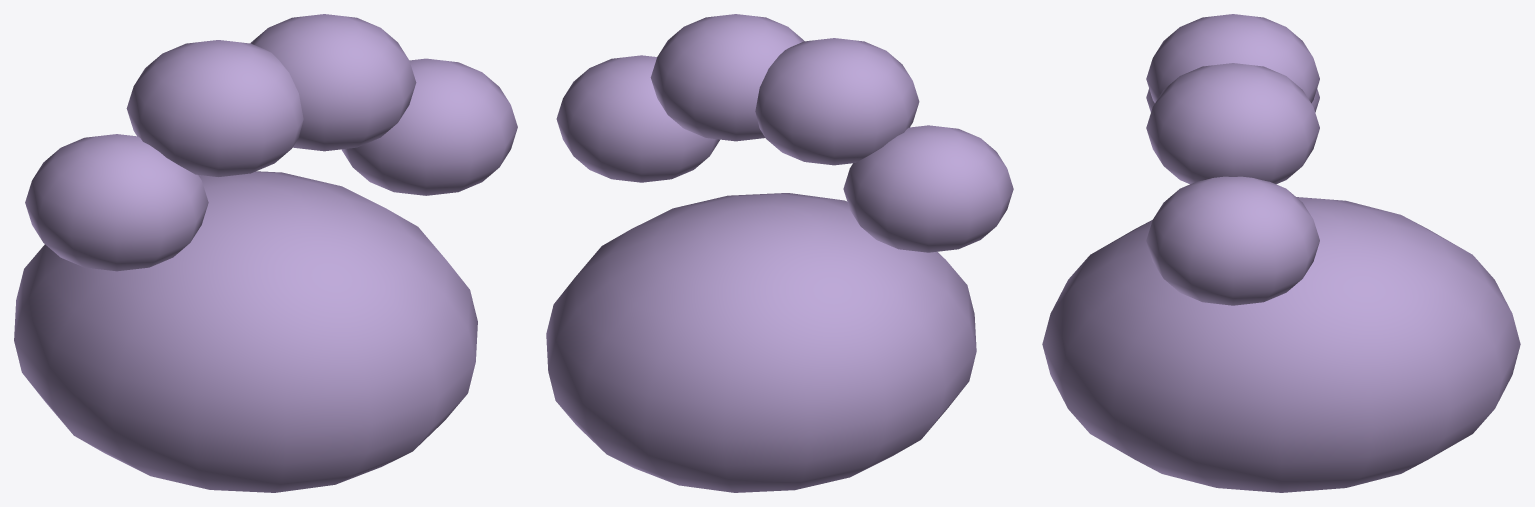
File: paw.glb
The picture shows the model from 3 angles, left to right: view 1: azimuth 30°, elevation 25°; view 2: azimuth 150°, elevation 25°; view 3: azimuth 270°, elevation 25°; orthographic projection. The views are drawn at different scales.
Bounding box in the file's own units: 1.06 × 0.946 × 0.99.
